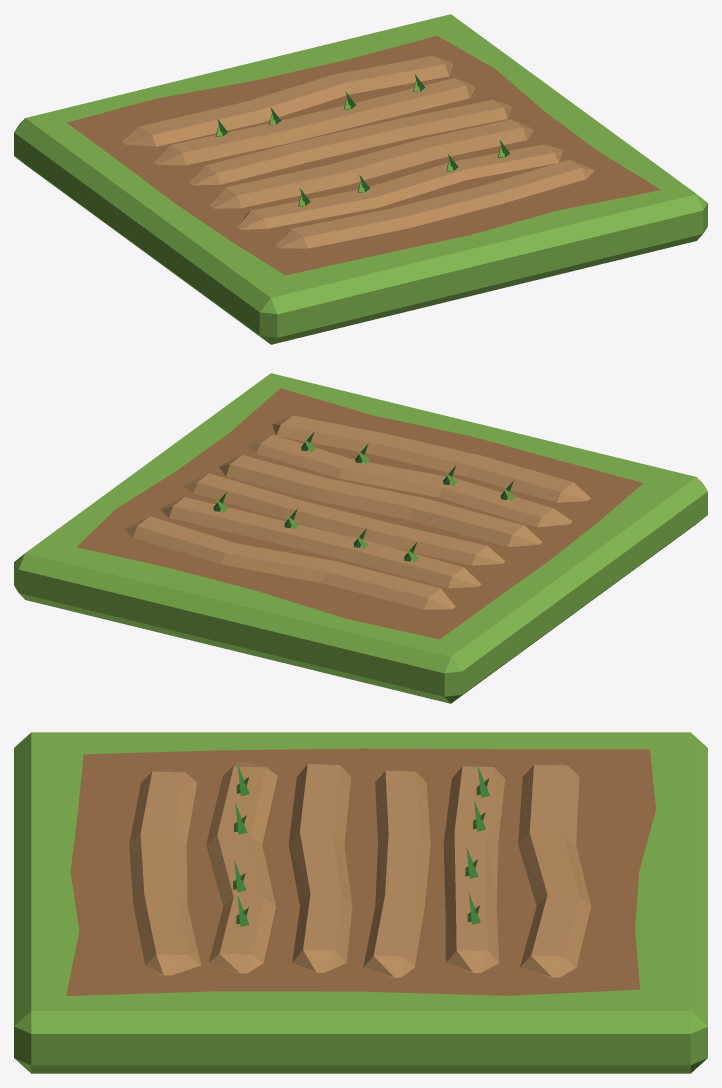
File: tile_soil_c.fbx
The picture shows the model from 3 angles, top to bottom: view 1: azimuth 30°, elevation 25°; view 2: azimuth 150°, elevation 25°; view 3: azimuth 270°, elevation 25°; orthographic projection. The views are drawn at different scales.
Visible parts, largest first — view 1: tile_soil_c; view 2: tile_soil_c; view 3: tile_soil_c.
Part boxes in pixels (x1=…): tile_soil_c: x1=14, y1=14, x2=707, y2=344; tile_soil_c: x1=14, y1=373, x2=707, y2=703; tile_soil_c: x1=14, y1=732, x2=707, y2=1073.
Bounding box in the file's own units: 1 × 0.1642 × 1.
